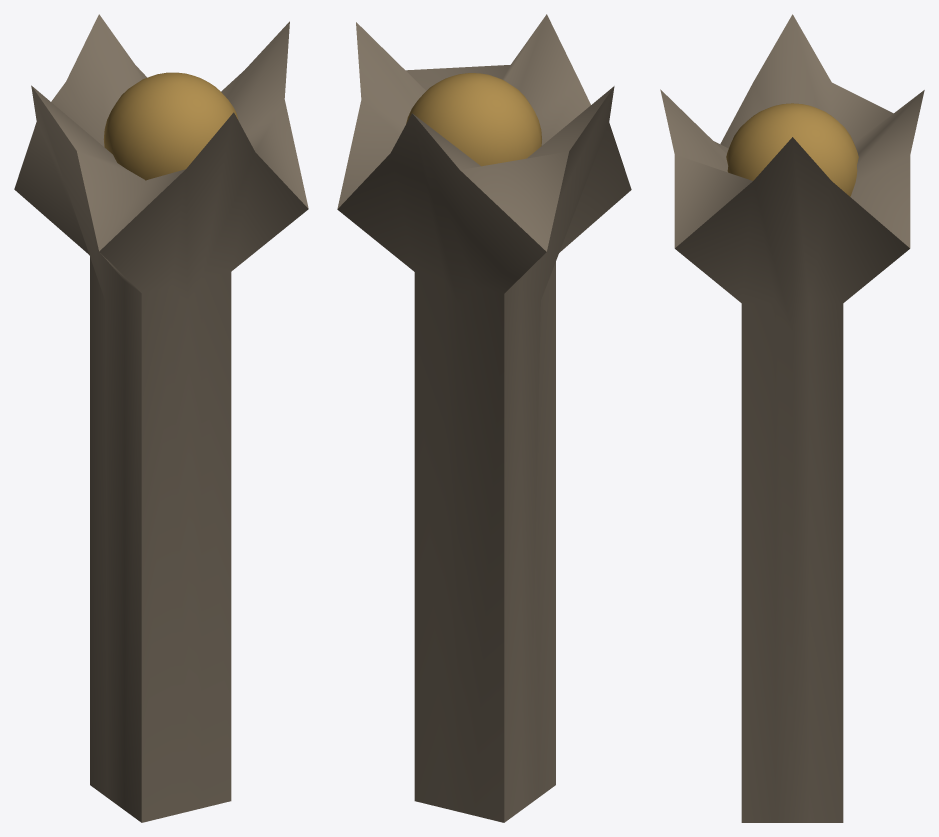
File: torch.fbx
3 views of the same model, side by side, from view 1: azimuth 30°, elevation 25°; view 2: azimuth 150°, elevation 25°; view 3: azimuth 270°, elevation 25° (orthographic).
Parts seen in each view (by area): view 1: pCube1, pSphere1; view 2: pCube1, pSphere1; view 3: pCube1, pSphere1.
Part boxes in pixels (x1,y1,x2,y2): pCube1: (14,14,308,822); pSphere1: (103,72,238,180); pCube1: (337,14,631,822); pSphere1: (406,73,541,166); pCube1: (660,14,924,822); pSphere1: (726,103,858,196).
Size of the model in its own units: 2.89 by 7.9 by 2.61.
